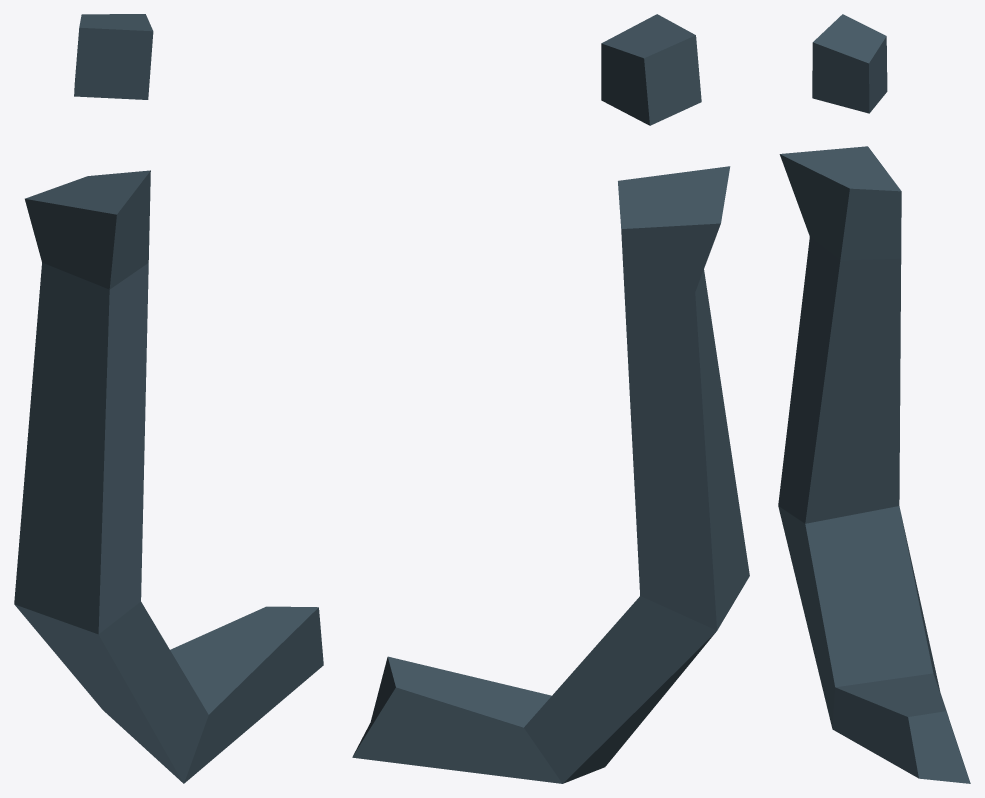
The model's file is lowercase-c.glb.
3 renders of one model, left to right at view 1: azimuth 30°, elevation 25°; view 2: azimuth 150°, elevation 25°; view 3: azimuth 270°, elevation 25°, orthographic. The views are drawn at different scales.
Size of the model in its own units: 0.1727 by 0.386 by 0.1.
